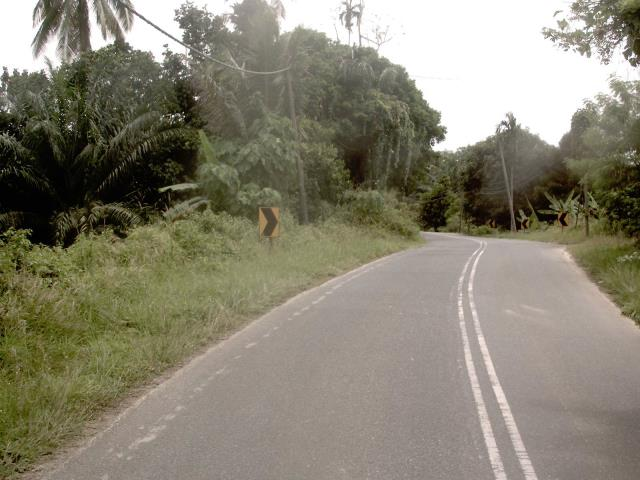traffic_sign: (252, 198, 287, 247)
